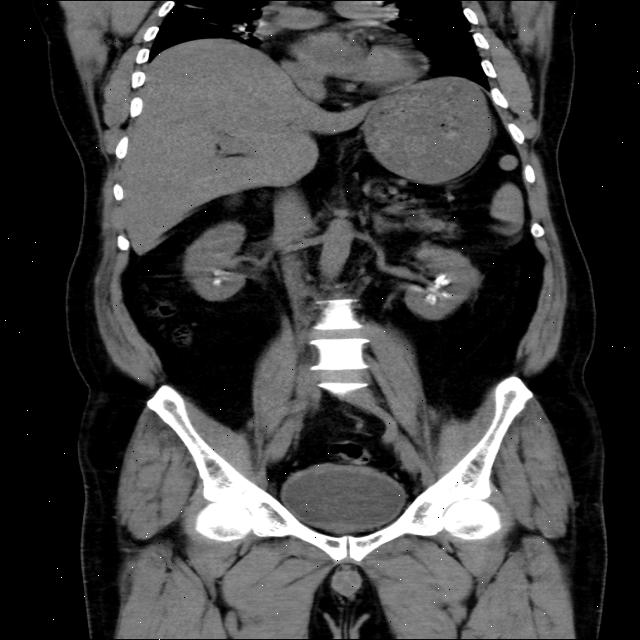kidneystone: (435, 274, 450, 290), (425, 294, 437, 305), (215, 276, 218, 282)
